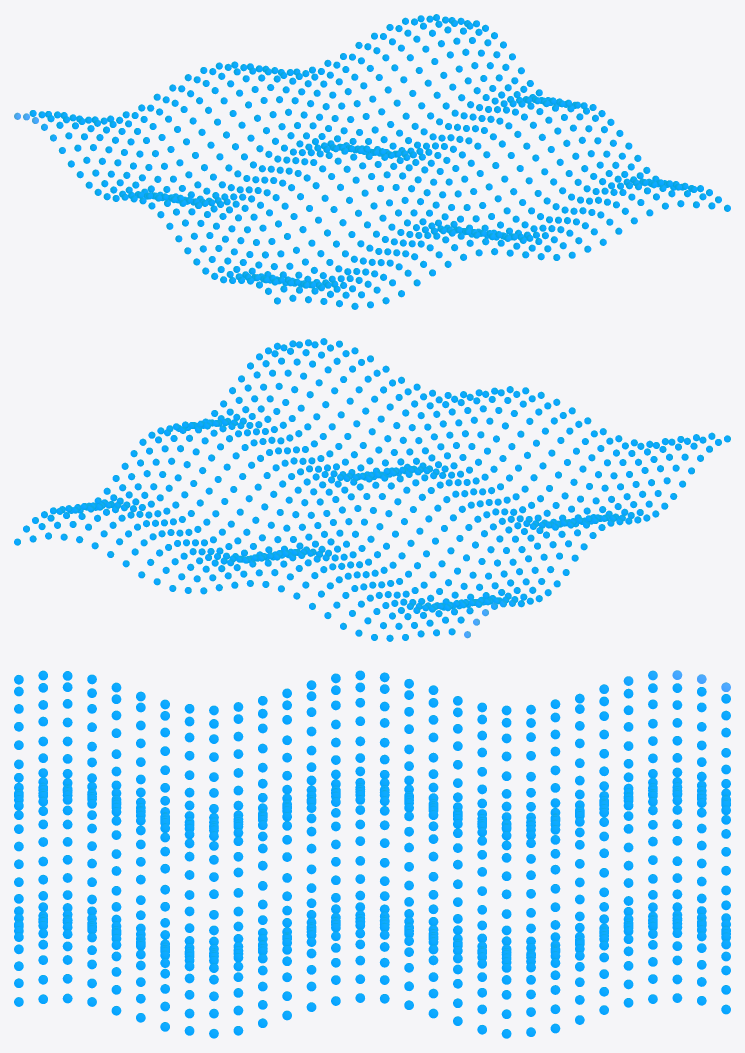
File: nft.gltf
The picture shows the model from 3 angles, top to bottom: view 1: azimuth 30°, elevation 25°; view 2: azimuth 150°, elevation 25°; view 3: azimuth 270°, elevation 25°; orthographic projection. The views are drawn at different scales.
Bounding box in the file's own units: 29.4 × 3.65 × 29.4.
900 materials, 900 textured.
